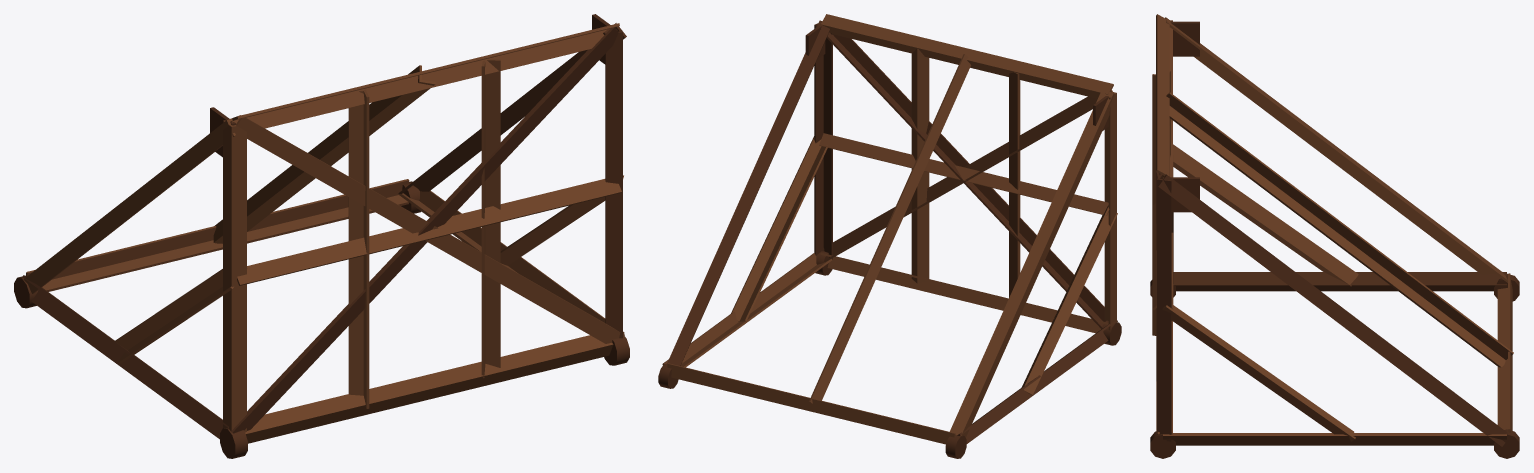
Rendered from belgian_gate.glb.
The picture shows the model from 3 angles, left to right: view 1: azimuth 30°, elevation 25°; view 2: azimuth 150°, elevation 25°; view 3: azimuth 270°, elevation 25°; orthographic projection. The views are drawn at different scales.
Parts seen in each view (by area): view 1: belgian_gate; view 2: belgian_gate; view 3: belgian_gate.
Boxes of the visible parts, x1=… form: belgian_gate: x1=14, y1=14, x2=629, y2=458; belgian_gate: x1=658, y1=14, x2=1121, y2=458; belgian_gate: x1=1150, y1=14, x2=1519, y2=458.
Size of the model in its own units: 3.13 by 2.58 by 3.01.
